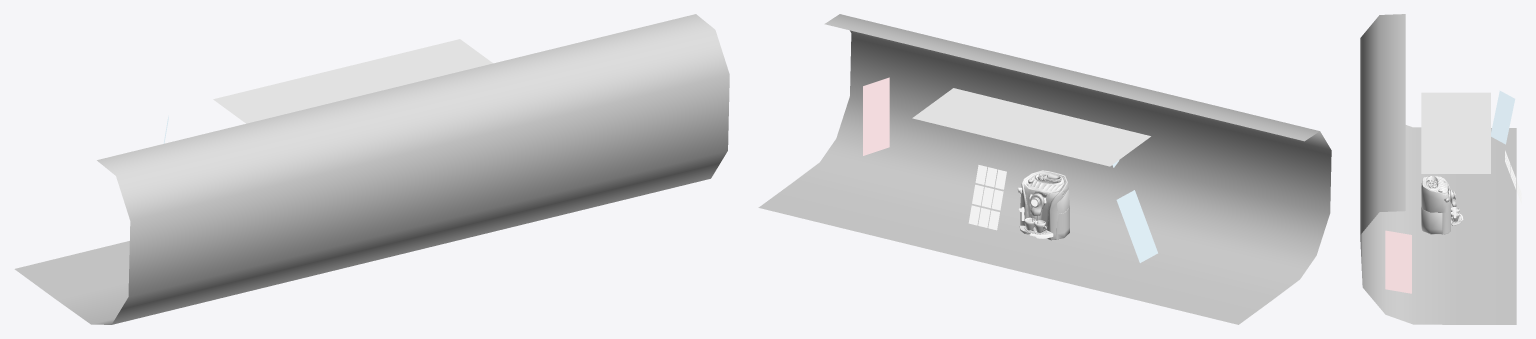
File: Saeco_1.3.gltf
3 renders of one model, left to right at view 1: azimuth 30°, elevation 25°; view 2: azimuth 150°, elevation 25°; view 3: azimuth 270°, elevation 25°, orthographic. The views are drawn at different scales.
Parts seen in each view (by area): view 1: Plane.008, Plane.002; view 2: Plane.008, Plane.002, Plane.003, Plane.007, Plane.006, Cylinder.002, Cylinder.001; view 3: Plane.008, Plane.002, Plane.003, Cylinder.001, Plane.006, Cylinder.000, Cylinder.002, Plane.007.
Boxes of the visible parts, x1,y1,x2,y2 form: Plane.008: (14,14,729,324); Plane.002: (213,39,492,123); Plane.008: (758,14,1331,324); Plane.002: (912,88,1150,166); Plane.003: (863,77,889,155); Plane.007: (968,165,1006,230); Plane.006: (1116,190,1157,262); Cylinder.002: (1023,171,1065,233); Cylinder.001: (1020,170,1068,240); Plane.008: (1360,14,1516,324); Plane.002: (1421,92,1490,173); Plane.003: (1385,230,1411,293); Cylinder.001: (1421,176,1450,234); Plane.006: (1491,90,1515,144); Cylinder.000: (1421,207,1442,233); Cylinder.002: (1423,177,1449,198); Plane.007: (1505,150,1521,203).
Bounding box in the file's own units: 23.58 × 6.35 × 8.17.
